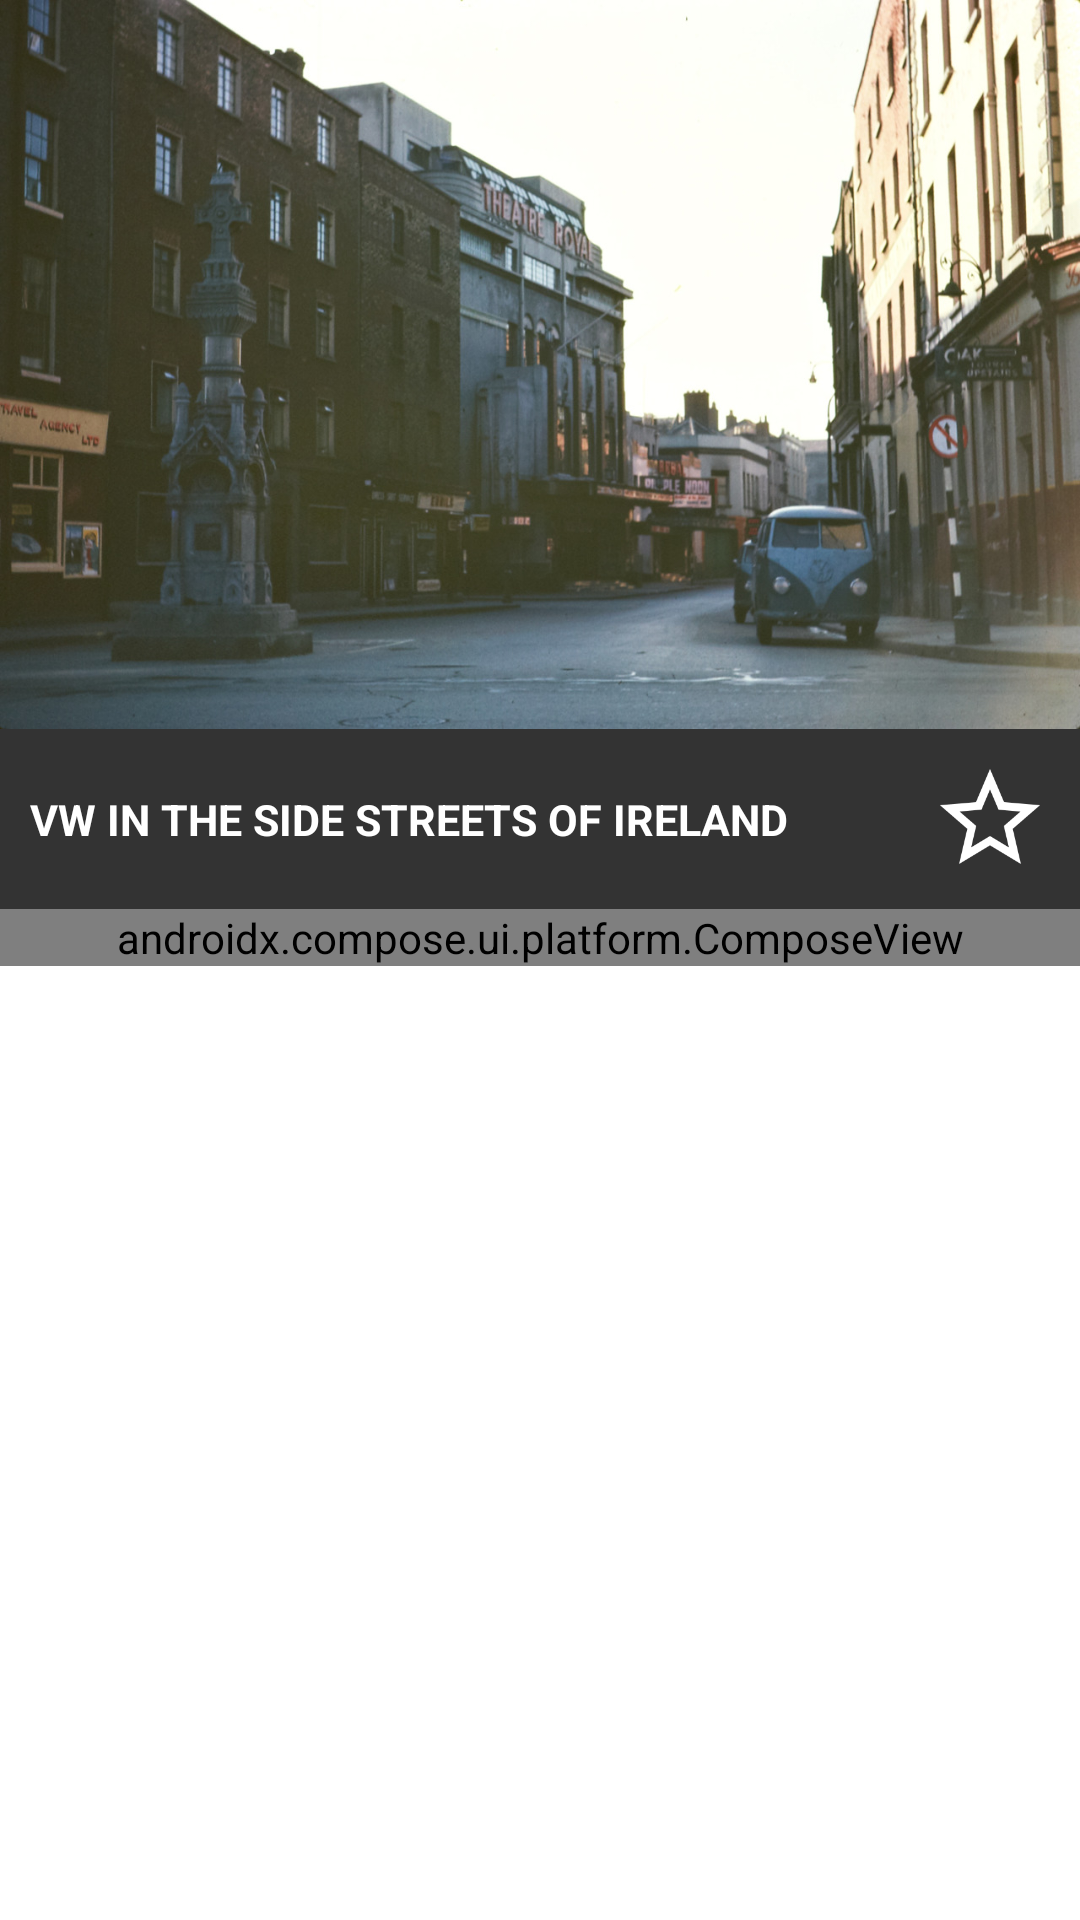

Icon bounding boxes for this 1080px×1920px phone screenshot, format (x1, y1, x2, y2):
ti un favorite: (940, 769, 1040, 864)
